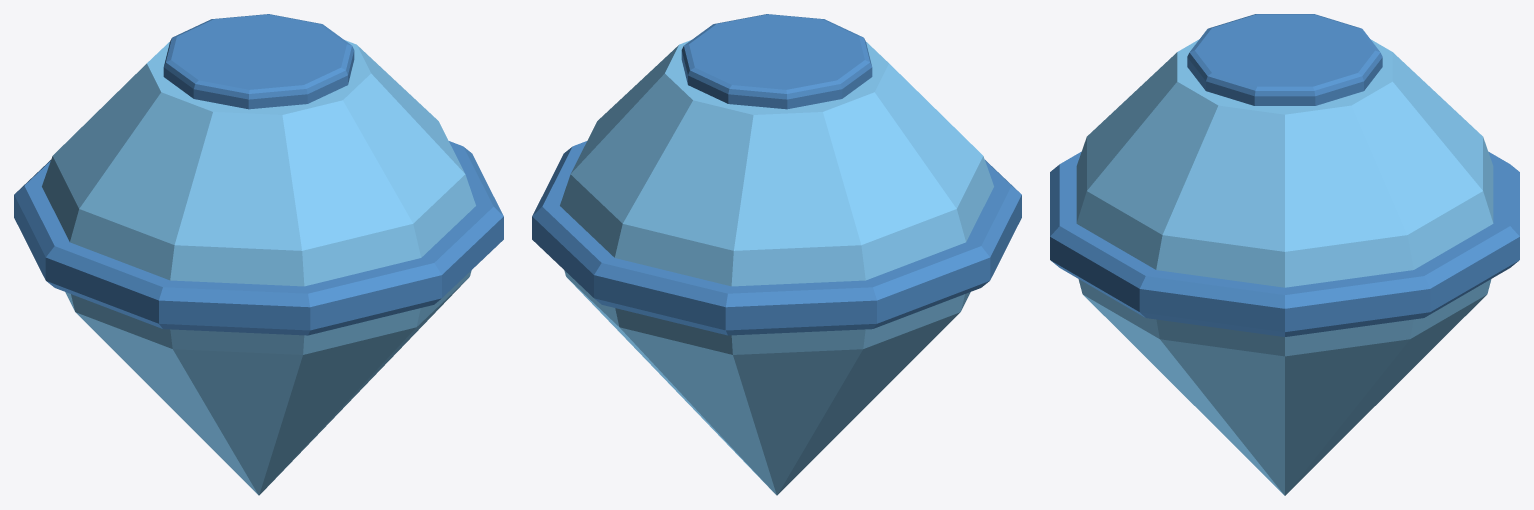
Rendered from game-ui-icon-library-gem-round-rare-fd8287a1.glb.
3 renders of one model, left to right at view 1: azimuth 30°, elevation 25°; view 2: azimuth 150°, elevation 25°; view 3: azimuth 270°, elevation 25°, orthographic.
Parts seen in each view (by area): view 1: gem-round-rare; view 2: gem-round-rare; view 3: gem-round-rare.
Boxes of the visible parts, x1=… form: gem-round-rare: x1=14, y1=14, x2=503, y2=495; gem-round-rare: x1=532, y1=14, x2=1021, y2=495; gem-round-rare: x1=1050, y1=14, x2=1519, y2=495.
Size of the model in its own units: 0.8412 by 0.8368 by 0.8.
